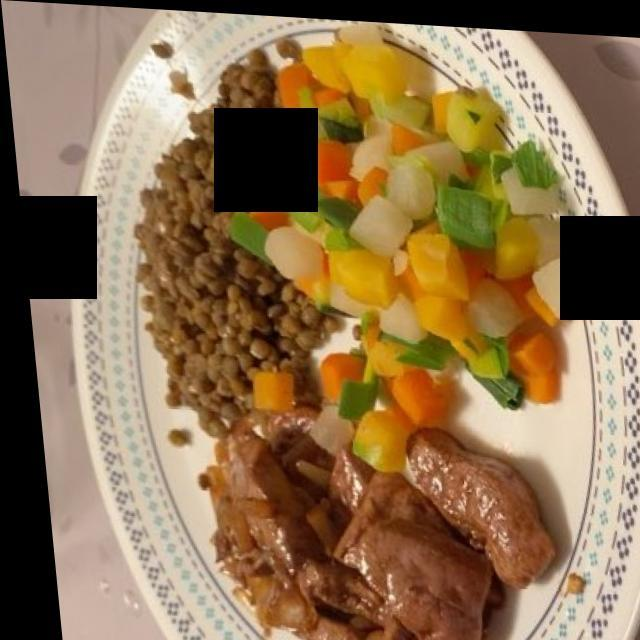lentils: (139, 42, 314, 442)
mixed-vegetables: (235, 32, 568, 458)
onion: (198, 411, 356, 640)
